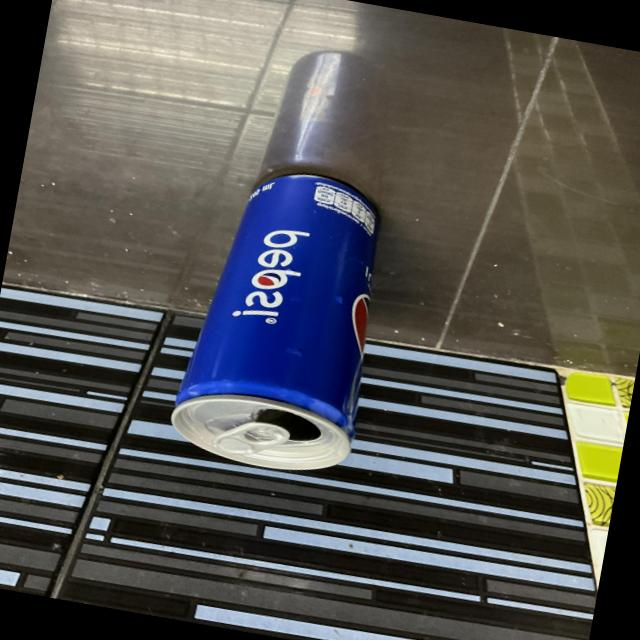can: (162, 154, 402, 486)
